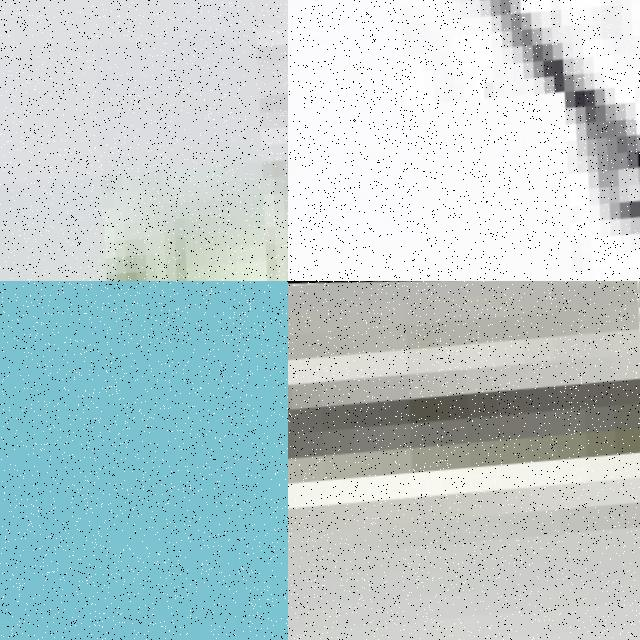0: (288, 0, 640, 281), (0, 0, 288, 281)
drone: (288, 281, 640, 640), (0, 281, 288, 640)
